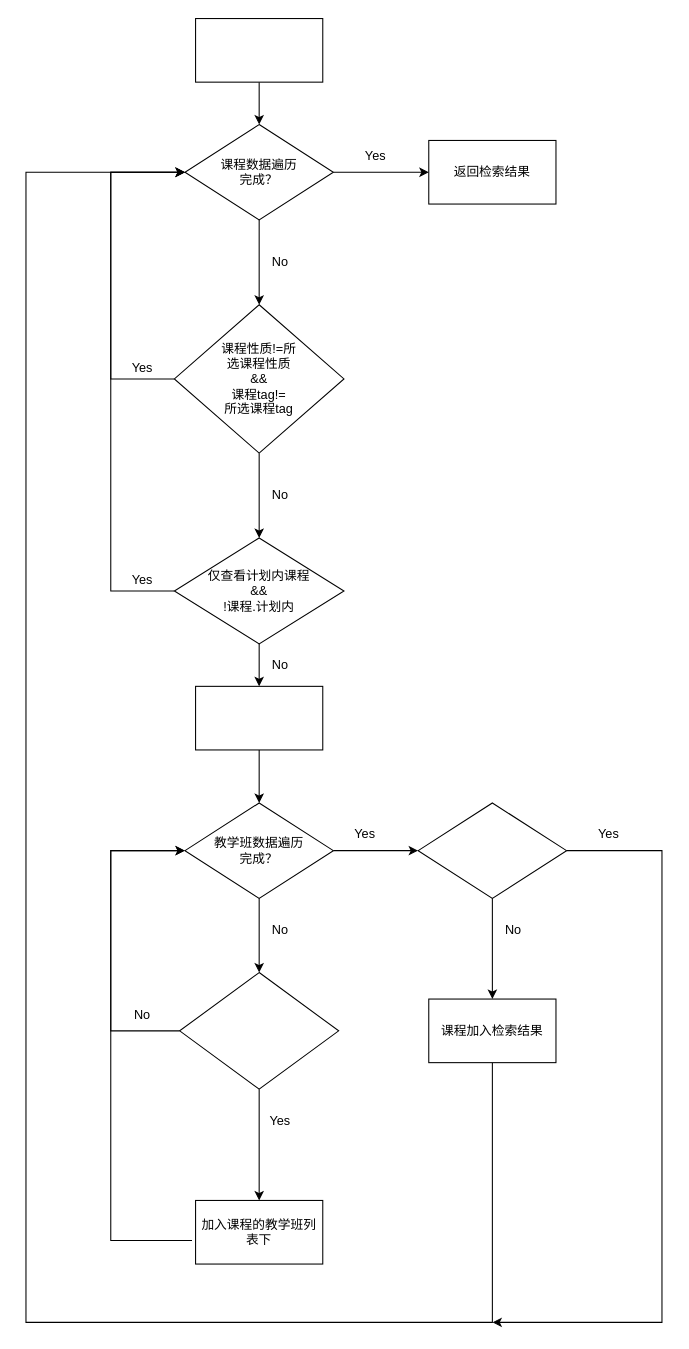
Some shapes in this 689 by 1349 pixel diagram are drawn without their labels. Here are the shapes that lost their labels. From the top down, the box of each, then its label:
(195, 17, 323, 82): 遍历课程数据
(195, 685, 323, 750): 遍历课程下教学班
(417, 802, 567, 898): 教学班列表为空？
(179, 971, 339, 1089): 未选-仅查看未冲突 教学班 or 教学班 时间不冲突
